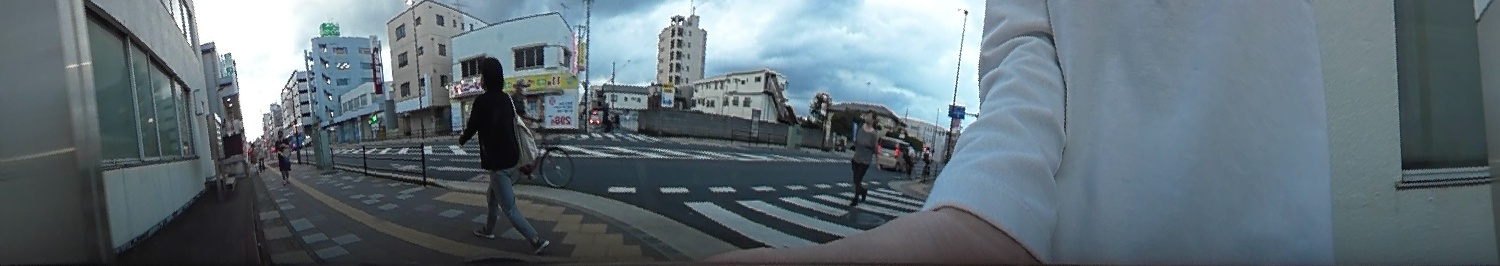difficult_person: (275, 123, 293, 186), (900, 137, 916, 174), (253, 134, 267, 167), (919, 142, 932, 173)
person: (453, 50, 555, 243), (835, 108, 880, 207)
